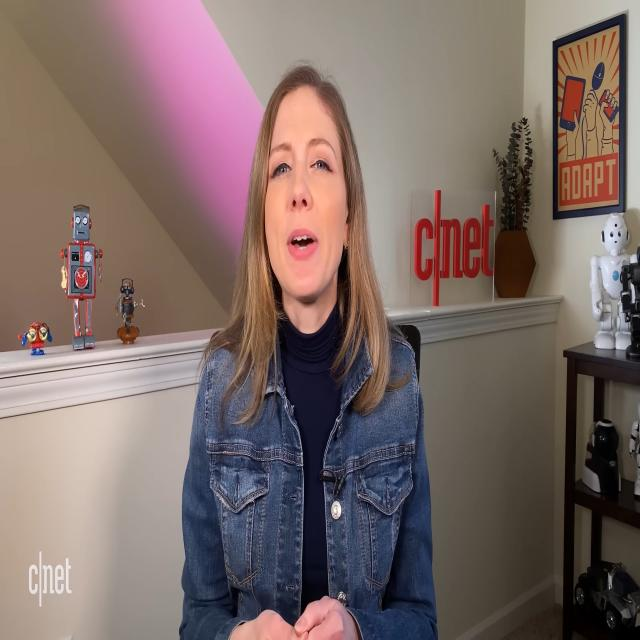dress: (176, 301, 443, 640)
